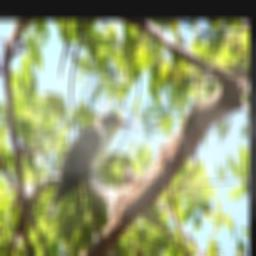Cuckoo: (45, 112, 132, 226)
